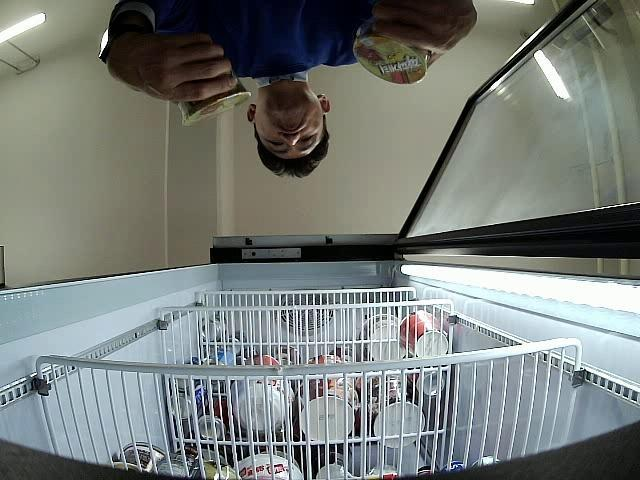04_chapagetti_S: (178, 33, 252, 126), (352, 22, 430, 84)
